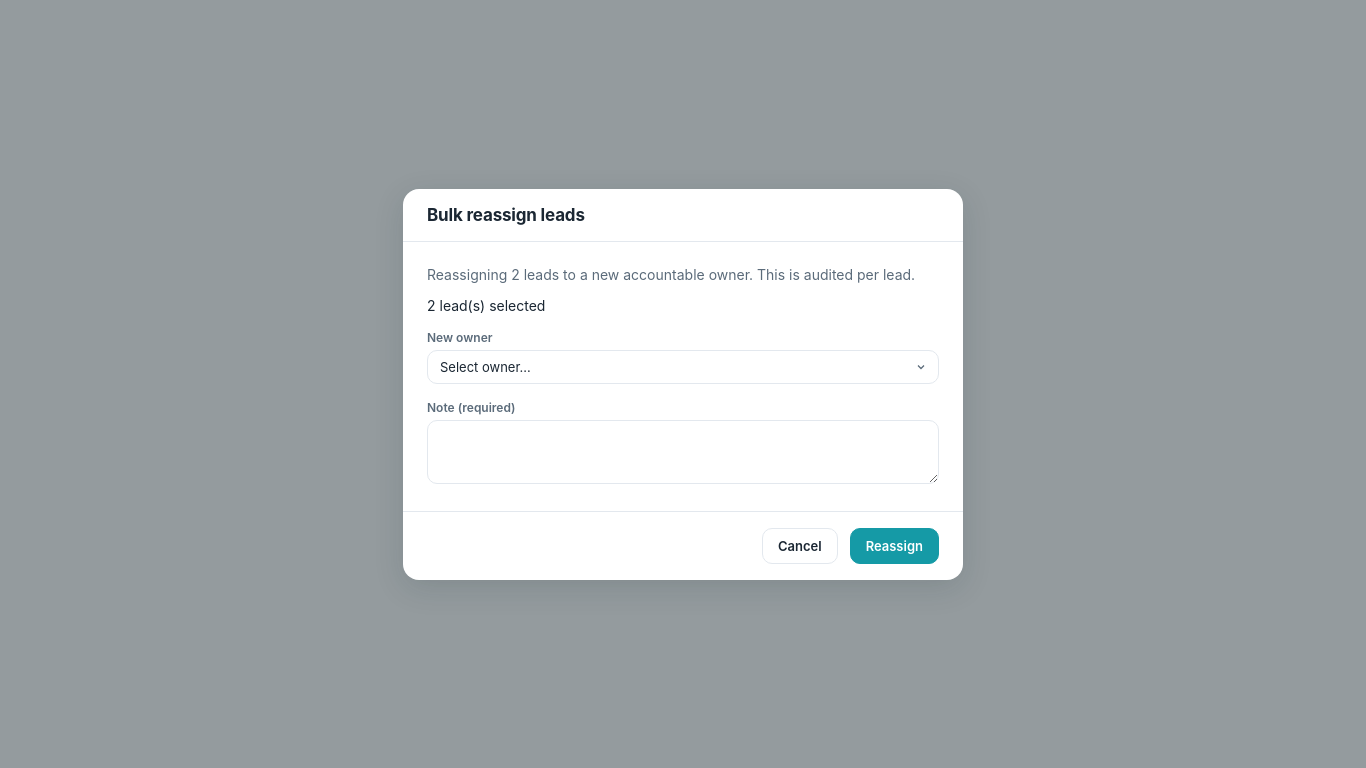
Test: BulkReassignDialog › click_WhenConfirmedWithoutNote_ShouldShowInlineErrorAndNotConfirm
Select "Sam RM" in the dropdown with test id "reassign-owner-select": (683, 366) x1=427 y1=350 x2=939 y2=384
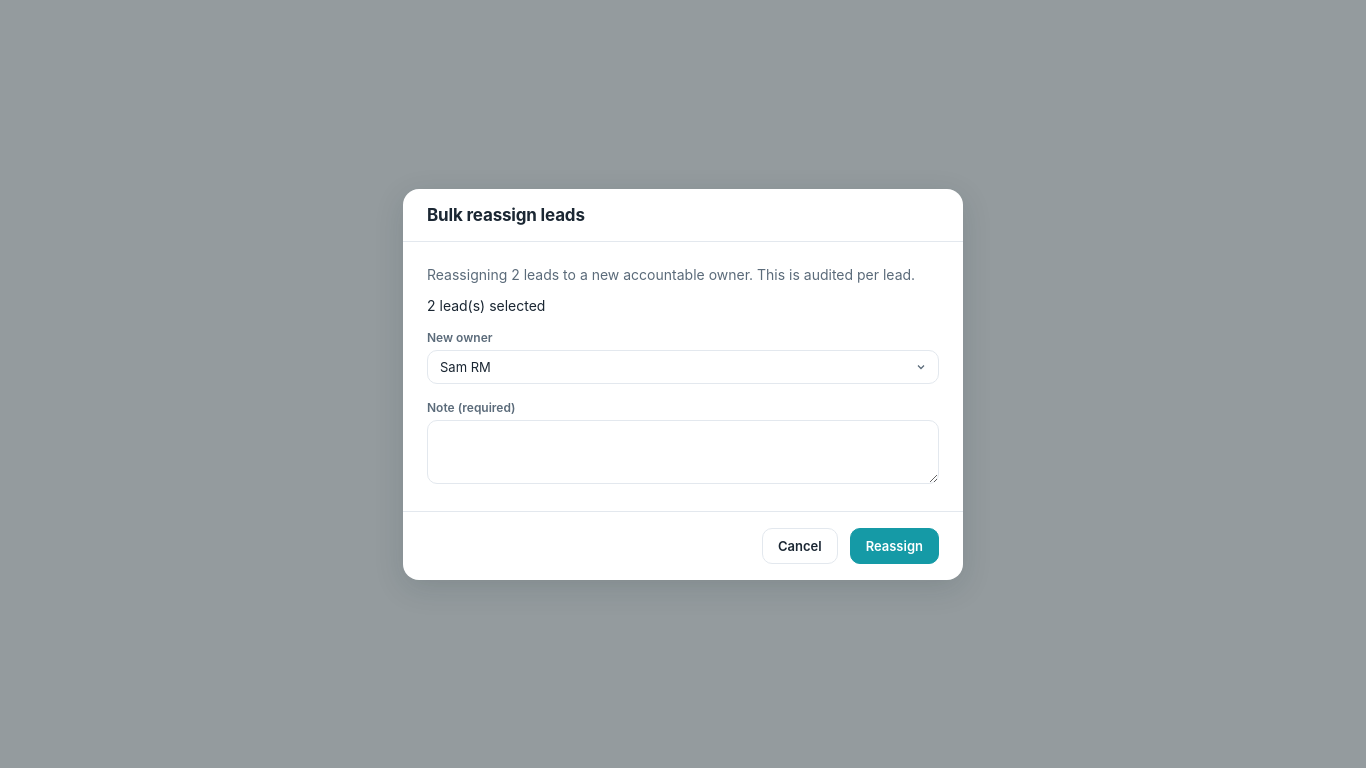
Click the button with test id "dialog-primary-button": click(894, 546) x1=850 y1=528 x2=939 y2=564
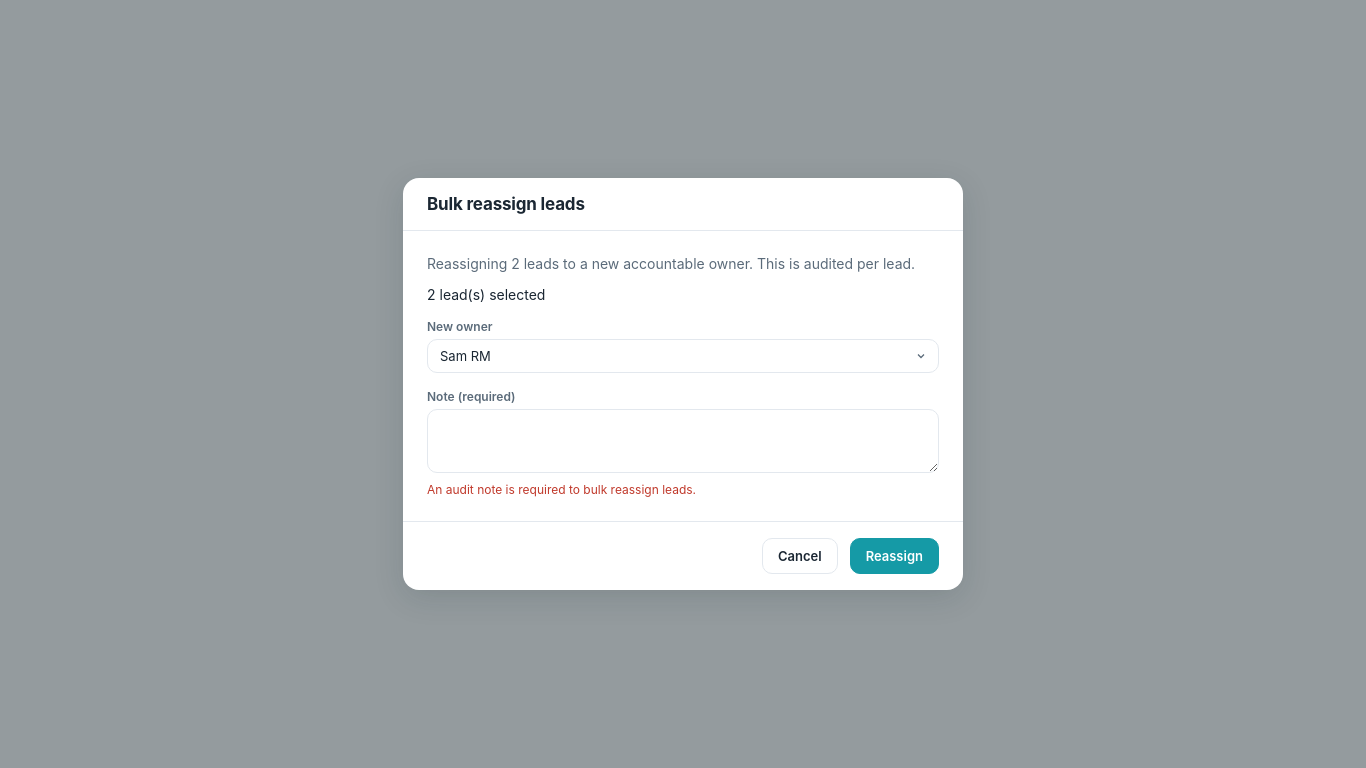
Now the message "An audit note is required to bulk reassign leads." is shown, box x1=427 y1=482 x2=696 y2=497
